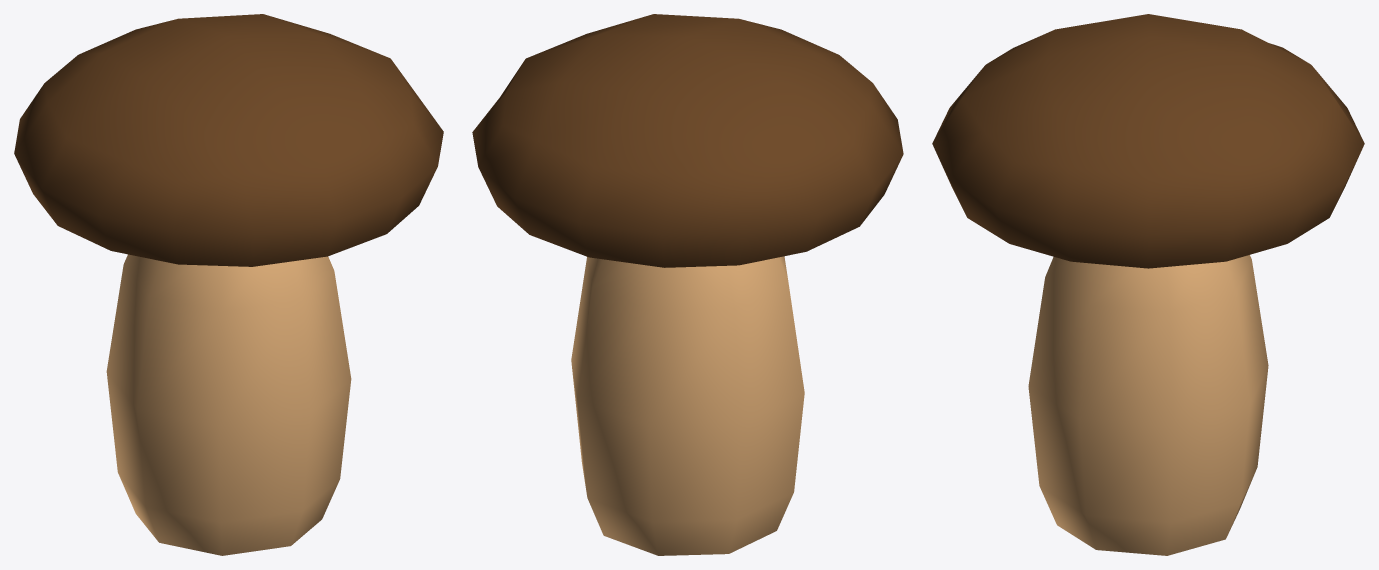
Rendered from Bay_Bolete_Big.glb.
3 renders of one model, left to right at view 1: azimuth 30°, elevation 25°; view 2: azimuth 150°, elevation 25°; view 3: azimuth 270°, elevation 25°, orthographic.
Parts seen in each view (by area): view 1: Bay_Bolete_Big; view 2: Bay_Bolete_Big; view 3: Bay_Bolete_Big.
Boxes of the visible parts, x1=… form: Bay_Bolete_Big: x1=14, y1=14, x2=443, y2=555; Bay_Bolete_Big: x1=472, y1=14, x2=903, y2=555; Bay_Bolete_Big: x1=932, y1=14, x2=1364, y2=555.
Bounding box in the file's own units: 0.2485 × 0.3038 × 0.2485.
Materials: 1 (1 with a texture image).
